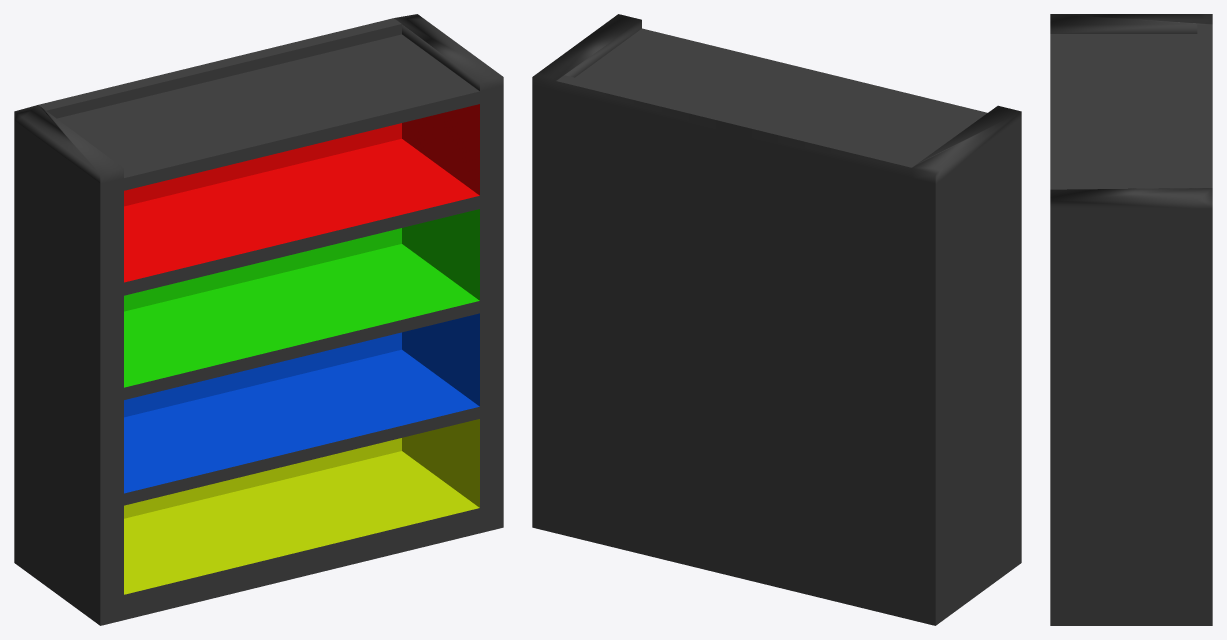
The model's file is estantevasos2.fbx.
The picture shows the model from 3 angles, left to right: view 1: azimuth 30°, elevation 25°; view 2: azimuth 150°, elevation 25°; view 3: azimuth 270°, elevation 25°; orthographic projection. The views are drawn at different scales.
Visible parts, largest first — view 1: Estante vasos; view 2: Estante vasos; view 3: Estante vasos.
Boxes of the visible parts, bbox=[...] form: Estante vasos: bbox=[14, 14, 503, 625]; Estante vasos: bbox=[532, 14, 1021, 625]; Estante vasos: bbox=[1050, 14, 1212, 625].
Bounding box in the file's own units: 200 × 214 × 73.9.
